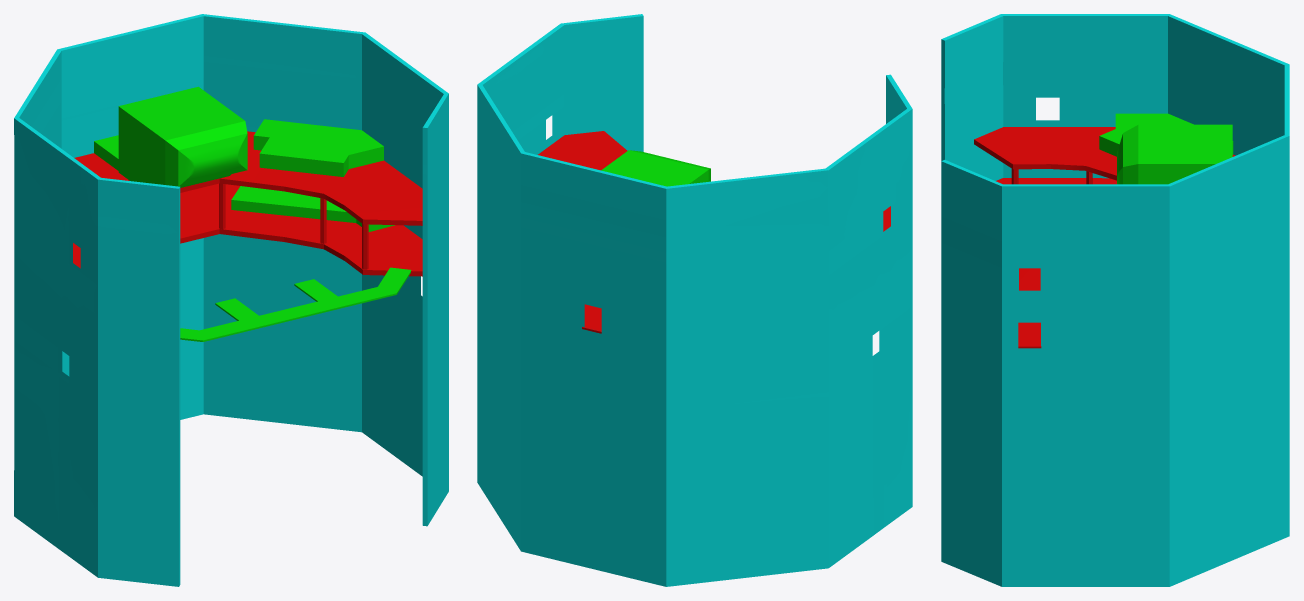
Rendered from sm_facility.fbx.
The picture shows the model from 3 angles, left to right: view 1: azimuth 30°, elevation 25°; view 2: azimuth 150°, elevation 25°; view 3: azimuth 270°, elevation 25°; orthographic projection.
Parts seen in each view (by area): view 1: facility_wall_geo, facility_floor_hole_geo, facility_floor_noHole_geo, facility_observatory_geo, facility_platform_01_geo, facility_glass_observatory_geo, facility_walkway_mesh_geo, facility_platform_04_geo, polySurface1, facility_platform_02_geo; view 2: facility_wall_geo, facility_floor_noHole_geo, facility_observatory_geo; view 3: facility_wall_geo, facility_floor_noHole_geo, facility_observatory_geo, facility_platform_03_geo, facility_floor_hole_geo, facility_glass_observatory_geo.
Boxes of the visible parts, x1=… form: facility_wall_geo: x1=14, y1=14, x2=448, y2=586; facility_floor_hole_geo: x1=180, y1=183, x2=422, y2=276; facility_floor_noHole_geo: x1=73, y1=131, x2=422, y2=268; facility_observatory_geo: x1=118, y1=86, x2=244, y2=187; facility_platform_01_geo: x1=253, y1=119, x2=383, y2=176; facility_glass_observatory_geo: x1=165, y1=121, x2=247, y2=186; facility_walkway_mesh_geo: x1=180, y1=267, x2=411, y2=340; facility_platform_04_geo: x1=231, y1=186, x2=394, y2=231; polySurface1: x1=180, y1=271, x2=410, y2=341; facility_platform_02_geo: x1=94, y1=135, x2=118, y2=170; facility_wall_geo: x1=477, y1=14, x2=912, y2=586; facility_floor_noHole_geo: x1=538, y1=131, x2=890, y2=231; facility_observatory_geo: x1=601, y1=150, x2=708, y2=186; facility_wall_geo: x1=941, y1=14, x2=1289, y2=586; facility_floor_noHole_geo: x1=974, y1=127, x2=1235, y2=290; facility_observatory_geo: x1=1138, y1=124, x2=1232, y2=184; facility_platform_03_geo: x1=1099, y1=113, x2=1233, y2=156; facility_floor_hole_geo: x1=996, y1=178, x2=1116, y2=348; facility_glass_observatory_geo: x1=1117, y1=125, x2=1138, y2=184.
Size of the model in its own units: 36.24 by 39.24 by 30.95.
